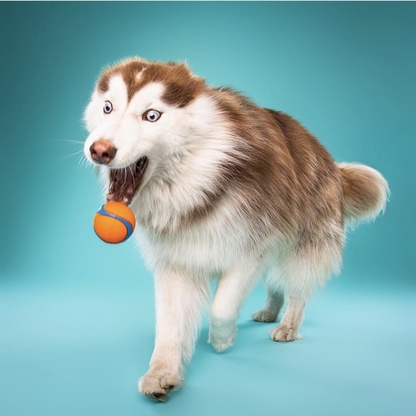husky: (75, 50, 394, 408)
